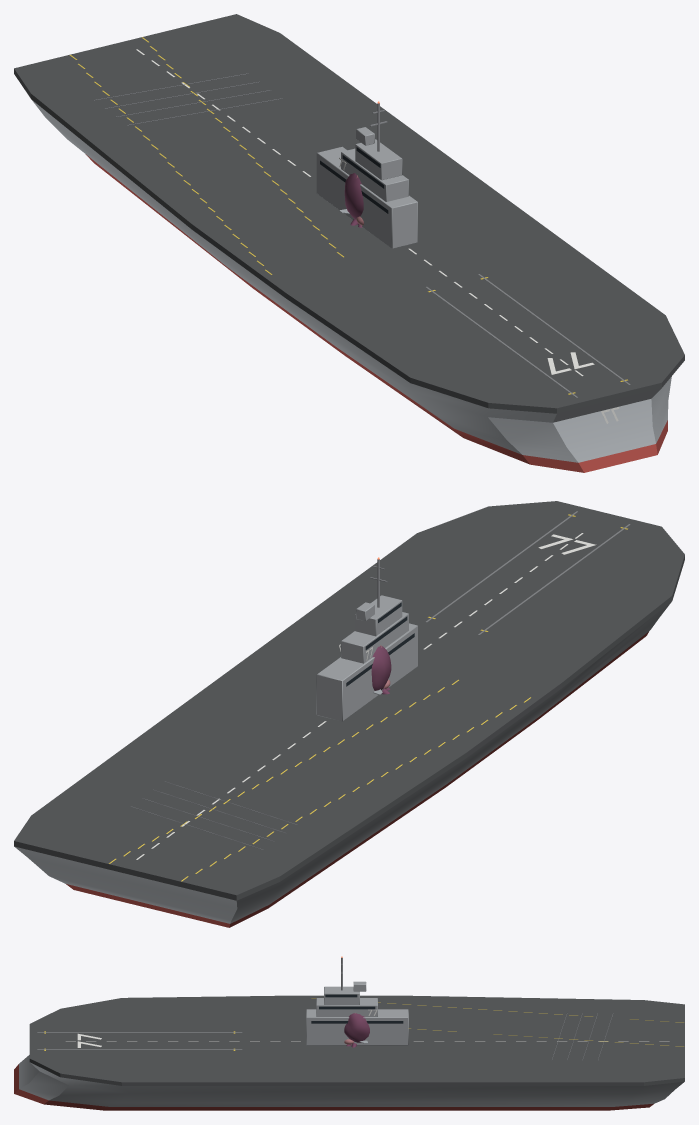
Rendered from carrier.glb.
3 renders of one model, top to bottom at view 1: azimuth 30°, elevation 25°; view 2: azimuth 150°, elevation 25°; view 3: azimuth 270°, elevation 25°, orthographic. The views are drawn at different scales.
Parts seen in each view (by area): view 1: carrier_hull, island, deck_lines, kraken_head; view 2: carrier_hull, island, deck_lines, kraken_head; view 3: carrier_hull, island, deck_lines, kraken_head.
Boxes of the visible parts, x1,y1,x2,y2 form: carrier_hull: [14, 14, 684, 472]; island: [316, 101, 417, 248]; deck_lines: [69, 37, 630, 397]; kraken_head: [344, 173, 363, 227]; carrier_hull: [14, 501, 684, 927]; island: [316, 557, 417, 721]; deck_lines: [109, 511, 630, 881]; kraken_head: [371, 645, 391, 694]; carrier_hull: [14, 995, 684, 1110]; island: [306, 956, 408, 1045]; deck_lines: [37, 998, 683, 1059]; kraken_head: [344, 1013, 369, 1047].
Bounding box in the file's own units: 80 × 54 × 262.
